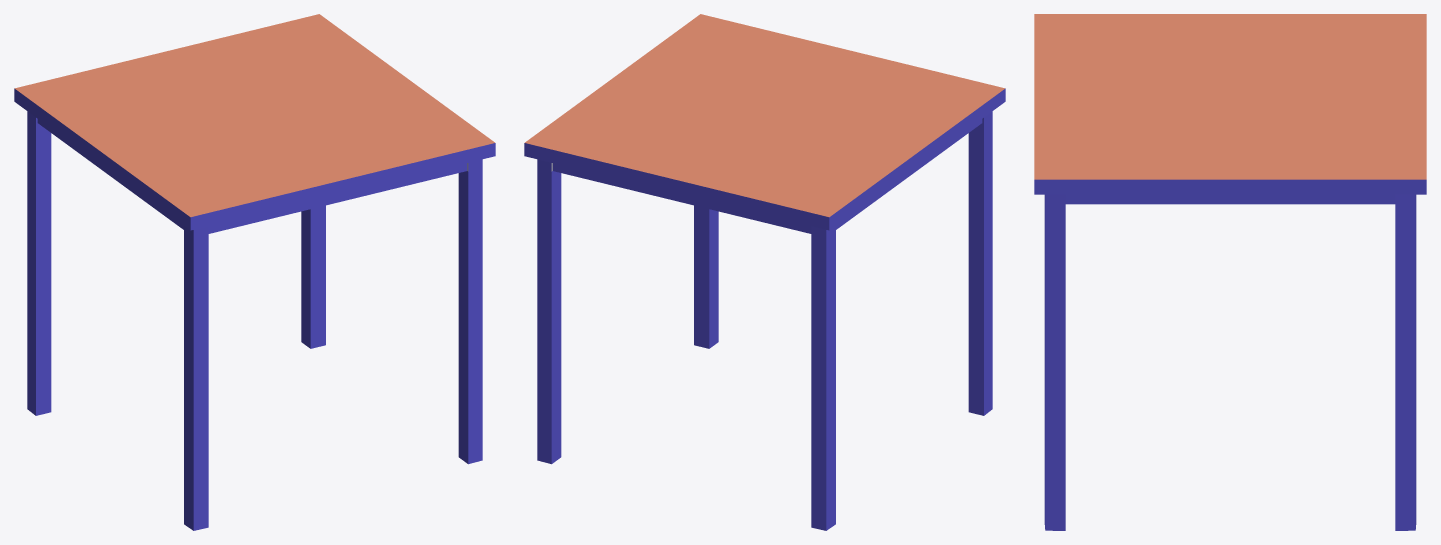
Rendered from extrude_table_02.fbx.
3 renders of one model, left to right at view 1: azimuth 30°, elevation 25°; view 2: azimuth 150°, elevation 25°; view 3: azimuth 270°, elevation 25°, orthographic. The views are drawn at different scales.
Parts seen in each view (by area): view 1: Cube; view 2: Cube; view 3: Cube.
Boxes of the visible parts, x1,y1,x2,y2 form: Cube: (14,14,495,530); Cube: (524,14,1005,530); Cube: (1034,14,1426,530).
Size of the model in its own units: 60.96 by 60.96 by 60.96.
